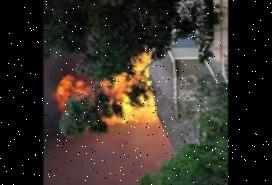fire: (48, 50, 158, 132)
